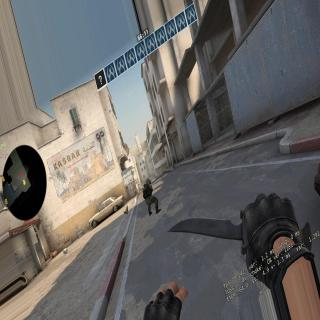CT-Body: (142, 176, 162, 216)
CT-Head: (145, 177, 151, 186)
